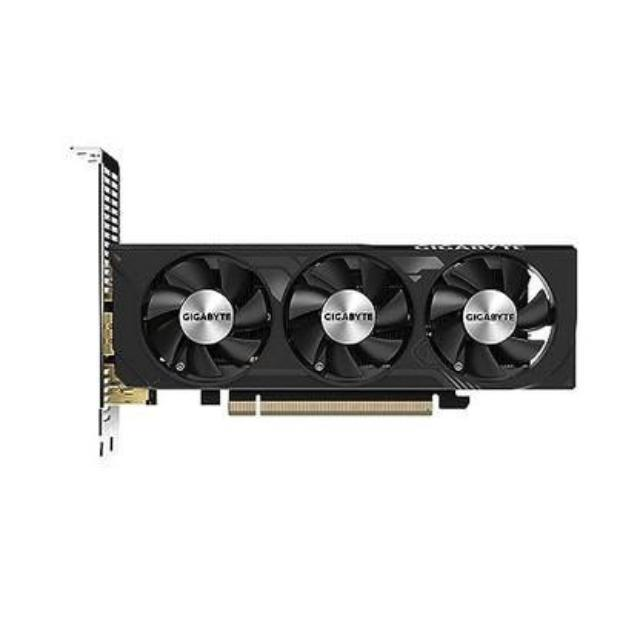GPU: (95, 236, 577, 419)
